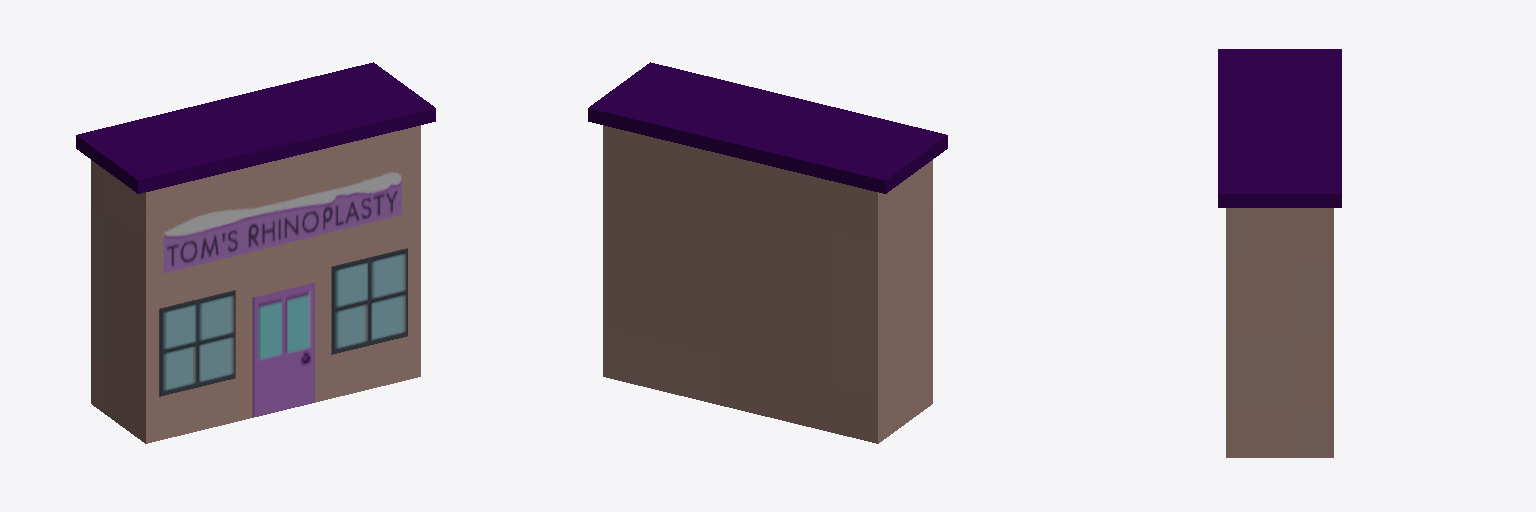
The picture shows the model from 3 angles: view 1: azimuth 30°, elevation 25°; view 2: azimuth 150°, elevation 25°; view 3: azimuth 270°, elevation 25°; orthographic projection.
Parts seen in each view (by area): view 1: Cube; view 2: Cube; view 3: Cube.
Part boxes in pixels (left/top/right/bottom): Cube: left=76, top=62, right=435, bottom=443; Cube: left=588, top=62, right=947, bottom=443; Cube: left=1218, top=49, right=1341, bottom=457.
Size of the model in its own units: 6.31 by 5.45 by 2.29.
1 materials, 1 textured.